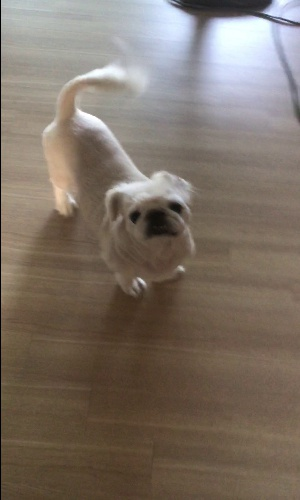ddubi: (40, 33, 202, 302)
